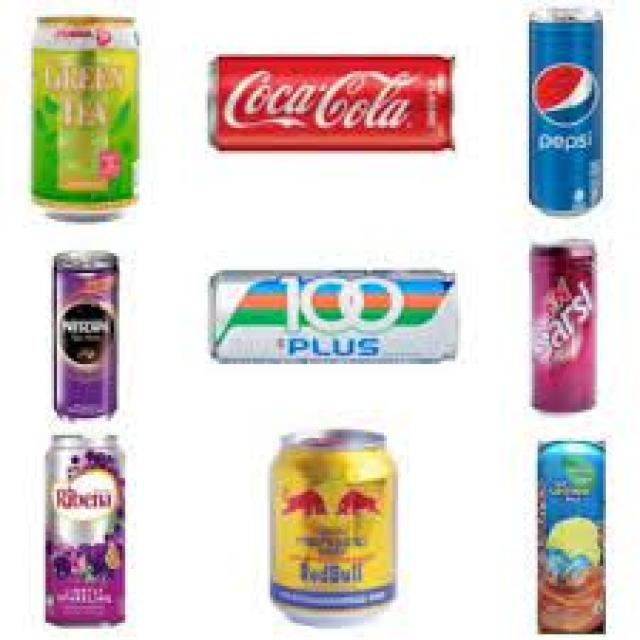Cans: (196, 43, 466, 159), (259, 418, 407, 626), (199, 262, 467, 367), (17, 6, 145, 219), (520, 3, 612, 219), (40, 426, 131, 632), (520, 230, 608, 424), (532, 435, 614, 640), (43, 239, 125, 427)
